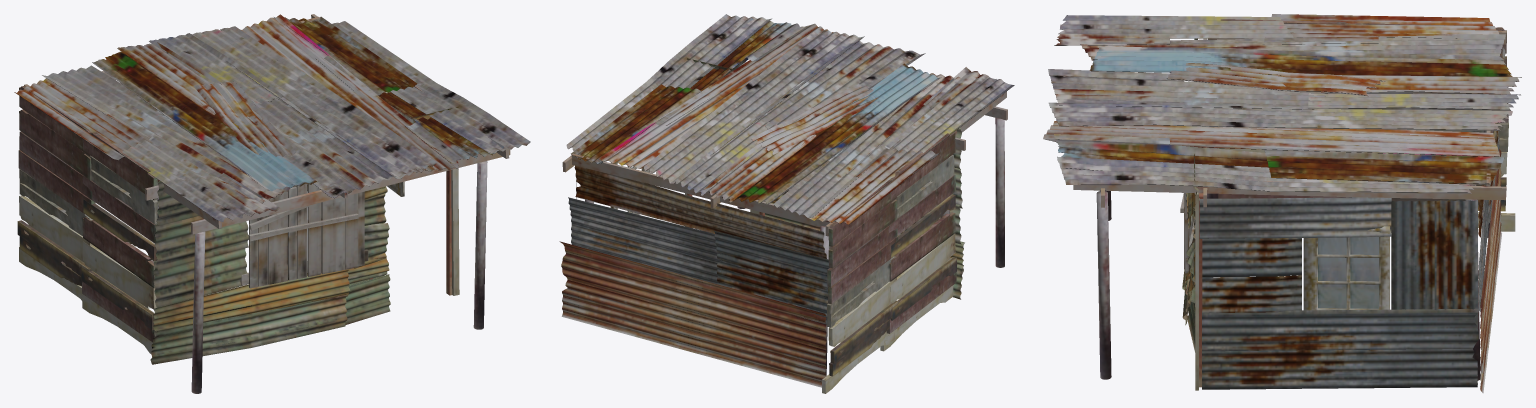
Rendered from Hut2.gltf.
The picture shows the model from 3 angles, left to right: view 1: azimuth 30°, elevation 25°; view 2: azimuth 150°, elevation 25°; view 3: azimuth 270°, elevation 25°; orthographic projection. The views are drawn at different scales.
Parts seen in each view (by area): view 1: Single 1; view 2: Single 1; view 3: Single 1.
Part boxes in pixels (x1,y1,x2,y2): Single 1: [14, 14, 530, 393]; Single 1: [559, 14, 1014, 393]; Single 1: [1043, 14, 1521, 393].
Size of the model in its own units: 1.17 by 0.6759 by 1.34.
1 material, 1 textured.
